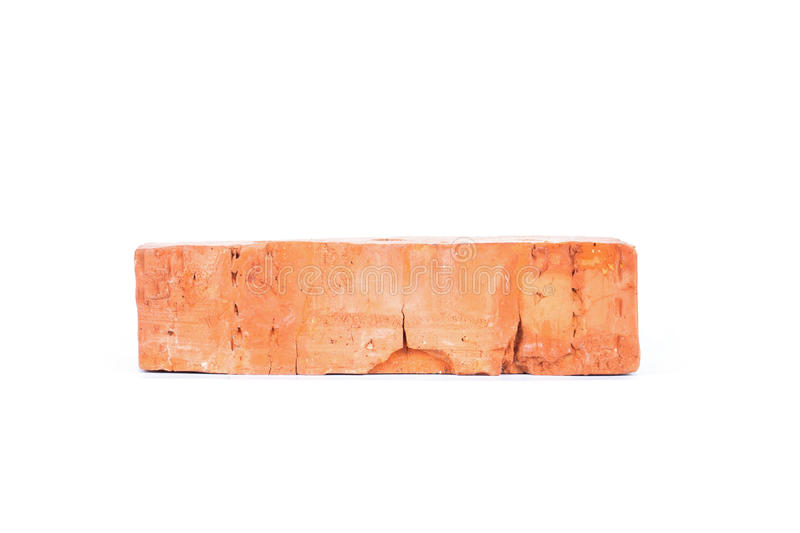brick: (136, 243, 642, 373)
